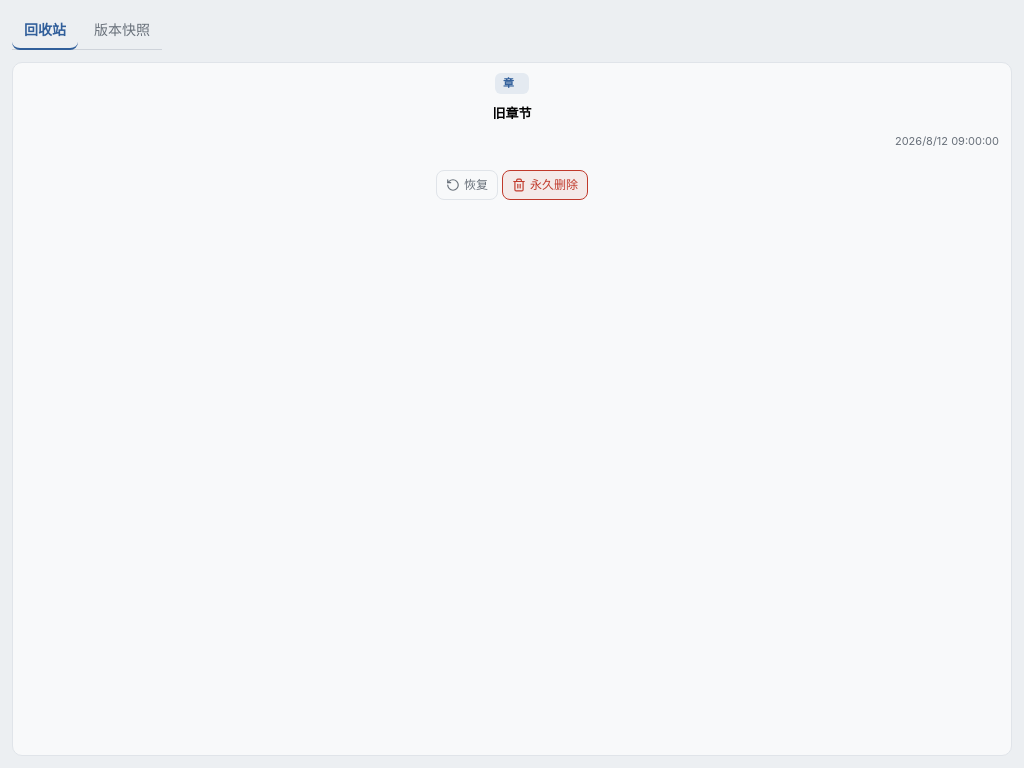
Test: HistoryPage 永久删除影响确认 › trash.impact 查询失败时禁止永久删除
Expected: the text "旧章节" is shown, [492,104,532,123]
Click the button "永久删除" at (545, 184), box [502,170,588,200]
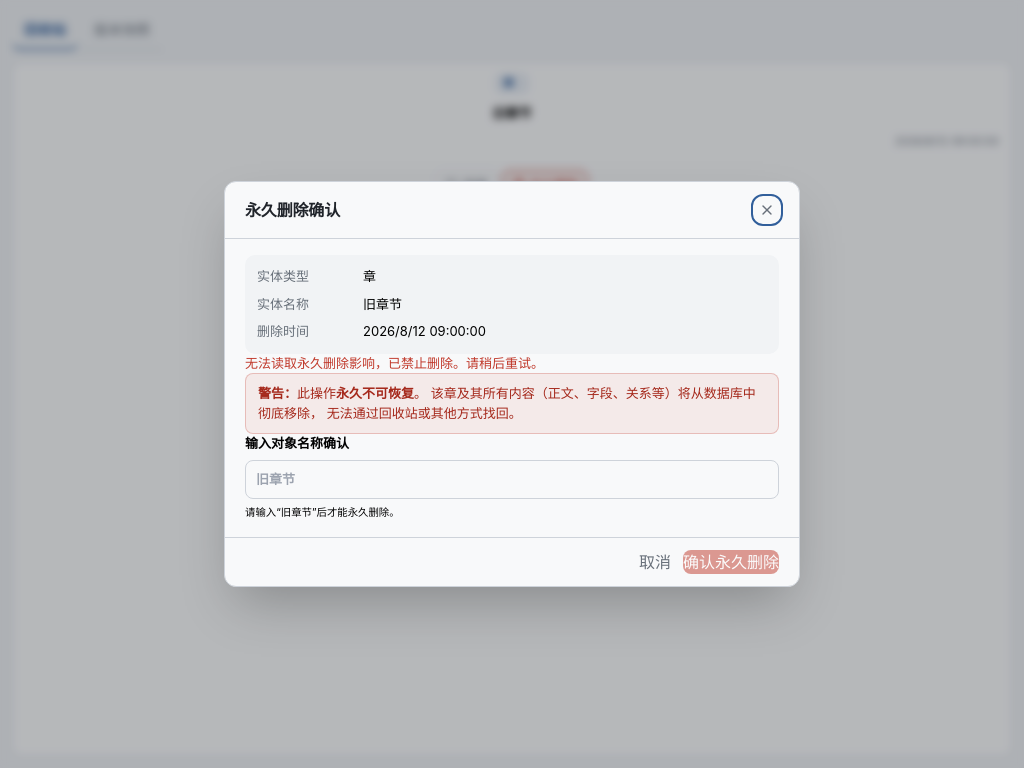
Now the text "无法读取永久删除影响，已禁止删除。请稍后重试。" is shown, box [245,355,544,371]
Now the button "确认永久删除" is disabled, box [683,550,779,574]
